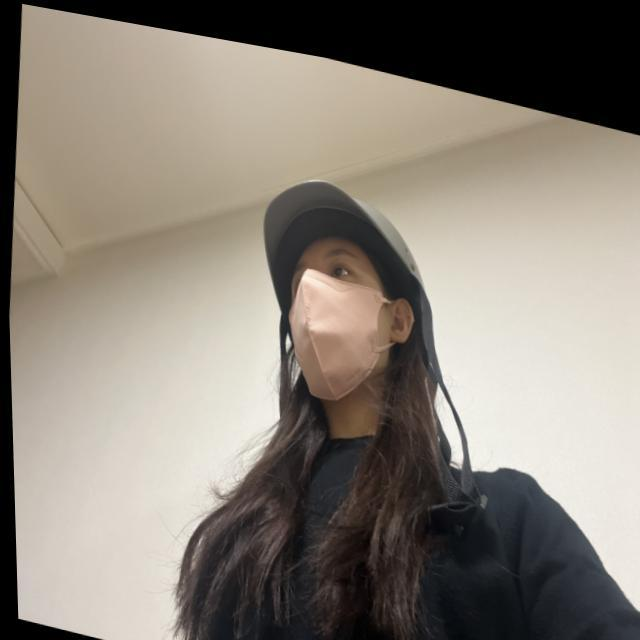Helmet: (249, 162, 467, 419)
